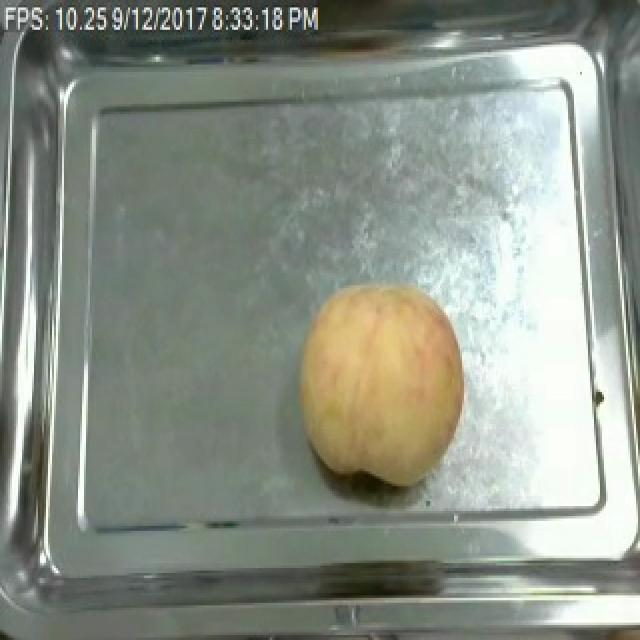Fruit: (288, 270, 474, 492)
